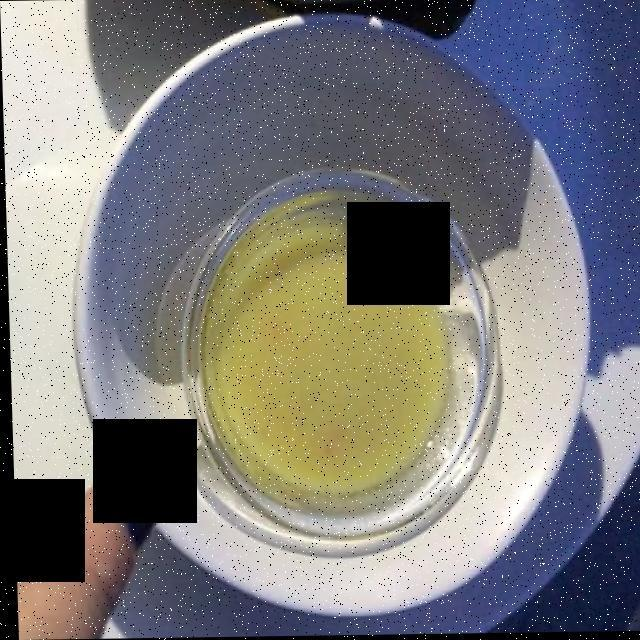salad: (184, 205, 458, 489)
